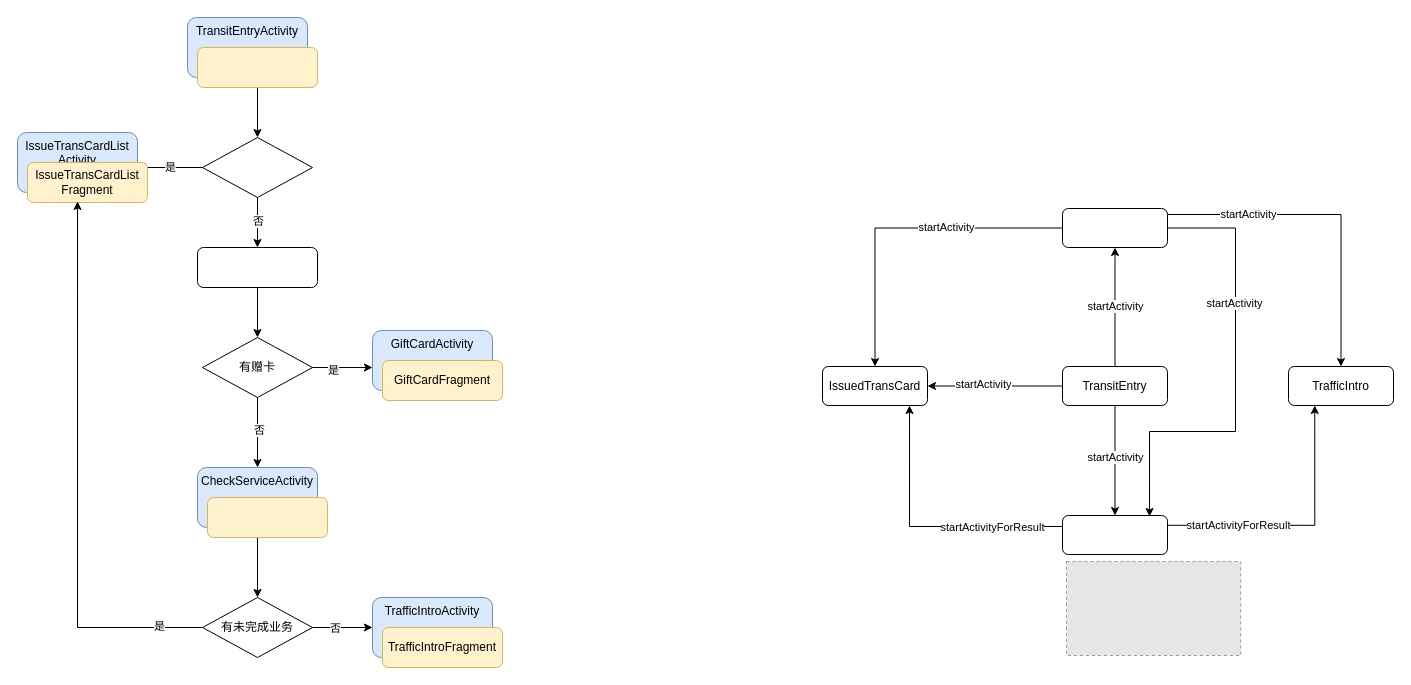
This 1411x685 diagram has some shape labels left out. Grey dashed boxes stand in for pictures. The centre of each missing label's shape, as x and y in pixels:
"CheckService" belongs at (x=1115, y=534).
"CheckService Fragment" belongs at (x=267, y=517).
"GiftCard" belongs at (x=1115, y=228).
"TransitEntryFragment" belongs at (x=257, y=67).
"有卡" belongs at (x=257, y=167).
"获取赠卡数据" belongs at (x=257, y=267).
